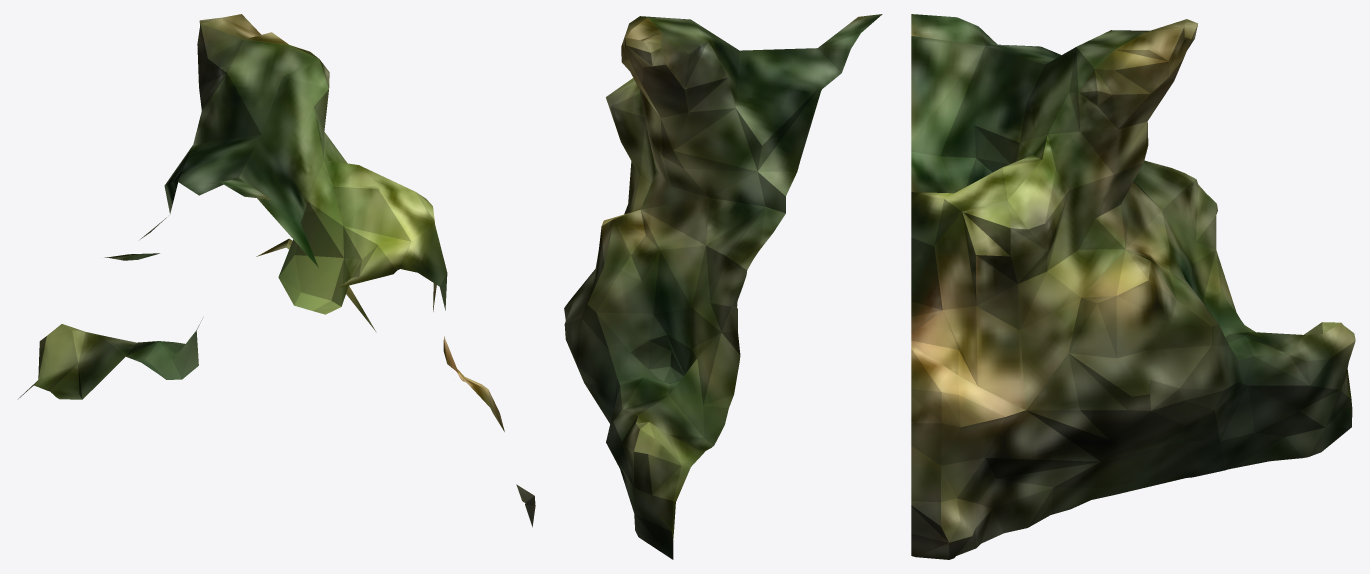
3 renders of one model, left to right at view 1: azimuth 30°, elevation 25°; view 2: azimuth 150°, elevation 25°; view 3: azimuth 270°, elevation 25°, orthographic. The views are drawn at different scales.
Size of the model in its own units: 0.427 by 0.6247 by 0.5512.
Materials: 1 (1 with a texture image).
